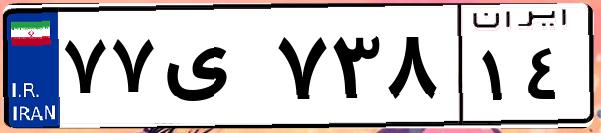1: (475, 38, 525, 113)
3: (330, 28, 385, 110)
4: (525, 38, 570, 115)
7: (270, 28, 330, 110), (57, 26, 110, 100), (110, 28, 158, 98)
8: (385, 28, 445, 110)
ی: (158, 20, 270, 120)
